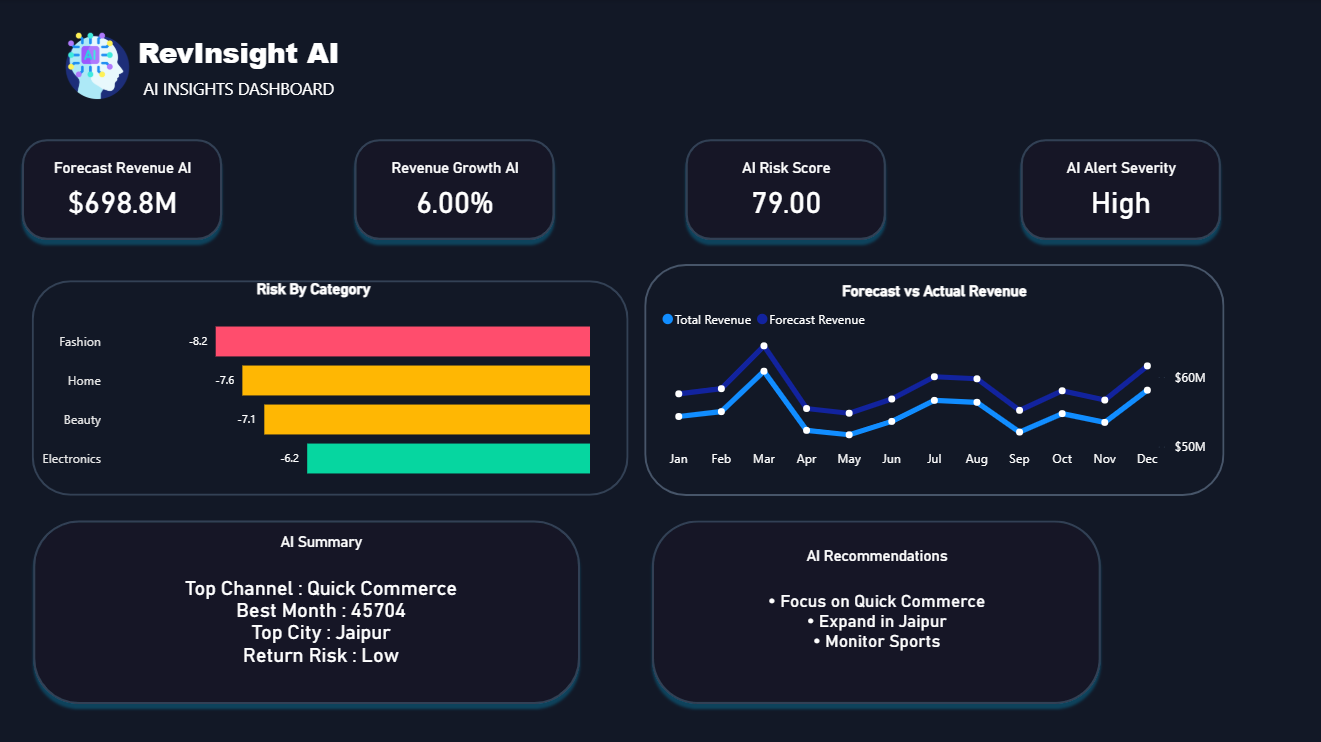

This screenshot's page, from the dashboard's own definition file:
{"tool":"powerbi","page":{"name":"AI Dashboard","canvas":[1280,720],"ordinal":2},"visuals":[{"type":"shape","title":"RevInsight AI","box":[48,32,368,64],"z":0},{"type":"shape","box":[16,128,208,112],"z":0,"group":"g2"},{"type":"shape","box":[336,128,208,112],"z":0,"group":"g4"},{"type":"shape","box":[656,128,208,112],"z":0,"group":"g5"},{"type":"shape","box":[979.9,128,208,112],"z":0,"group":"g6"},{"type":"shape","box":[27.1,496,542.6,192],"z":0,"group":"g3"},{"type":"group","id":"g1","title":"Group 1","box":[624,496,448,192],"z":0,"group":"g10"},{"type":"shape","box":[624,496,448,192],"z":0,"group":"g1"},{"type":"group","id":"g2","title":"Group 1","box":[16,128,208,112],"z":1000},{"type":"group","id":"g3","title":"Group 1","box":[27.1,496,542.6,192],"z":1000,"group":"g9"},{"type":"group","id":"g4","title":"Group 1","box":[336,128,208,112],"z":2000},{"type":"group","id":"g5","title":"Group 1","box":[656,128,208,112],"z":3000},{"type":"shape","title":"Revenue Trend","box":[624,256,560,224],"z":3000,"group":"g8"},{"type":"group","id":"g6","title":"Group 1","box":[979.9,128,208,112],"z":4000},{"type":"shape","box":[32,272,576,208],"z":4000,"group":"g7"},{"type":"group","id":"g7","title":"Group 11","box":[32,272,576,208],"z":5000},{"type":"group","id":"g8","title":"Group 8","box":[624,256,560,224],"z":6000},{"type":"group","id":"g9","title":"Group 2","box":[0,496,624,192],"z":7000},{"type":"group","id":"g10","title":"Group 3","box":[624,496,448,192],"z":8000},{"type":"image","box":[0,32,192,64],"z":9000},{"type":"group","id":"g11","title":"Group 1","box":[0,515.2,624,153.6],"z":9000,"group":"g9"},{"type":"clusteredBarChart","title":"Risk By Category","fields":{"Category":["Fact_Sales.Category"],"Y":["KPI_Table.Category Risk Score AI"]},"box":[32,272,544,208],"z":15000,"group":"g7"},{"type":"card","title":"Forecast Revenue AI","fields":{"Values":["KPI_Table.Forecast Revenue"]},"box":[48,154.4,144,64],"z":17000,"group":"g2"},{"type":"card","title":"Revenue Growth AI","fields":{"Values":["KPI_Table.Estimated Revenue Growth %"]},"box":[368,154.4,144,64],"z":17000,"group":"g4"},{"type":"card","title":"AI Risk Score","fields":{"Values":["KPI_Table.AI Risk Score V2"]},"box":[688,154.4,144,64],"z":17000,"group":"g5"},{"type":"card","title":"AI Alert Severity","fields":{"Values":["KPI_Table.Alert Severity AI"]},"box":[1011.9,154.4,144,64],"z":17000,"group":"g6"},{"type":"lineChart","title":"Forecast vs Actual Revenue","fields":{"Category":["Dim_Date.Month Name"],"Y":["KPI_Table.Total Revenue"],"Y2":["KPI_Table.Forecast Revenue"]},"box":[635.9,273.2,536.2,189.5],"z":17000,"group":"g8"},{"type":"card","title":"AI Summary ","fields":{"Values":["KPI_Table.AI Summary"]},"box":[0,515.2,624,153.6],"z":17000,"group":"g11"},{"type":"card","title":"AI Recommendations","fields":{"Values":["KPI_Table.Recommendation AI"]},"box":[656,528,384,128],"z":17000,"group":"g10"}]}

Visuals, with their boxes in screenshot pixels (x1, y1, x2, y2), scaled from the page's 1280x720 canvas onto the 1321x742 screenshot:
"RevInsight AI" shape: bbox(50, 33, 429, 99)
shape: bbox(17, 132, 231, 247)
shape: bbox(347, 132, 561, 247)
shape: bbox(677, 132, 892, 247)
shape: bbox(1011, 132, 1226, 247)
shape: bbox(28, 511, 588, 709)
"Group 1" group: bbox(644, 511, 1106, 709)
shape: bbox(644, 511, 1106, 709)
"Group 1" group: bbox(17, 132, 231, 247)
"Group 1" group: bbox(28, 511, 588, 709)
"Group 1" group: bbox(347, 132, 561, 247)
"Group 1" group: bbox(677, 132, 892, 247)
"Revenue Trend" shape: bbox(644, 264, 1222, 495)
"Group 1" group: bbox(1011, 132, 1226, 247)
shape: bbox(33, 280, 627, 495)
"Group 11" group: bbox(33, 280, 627, 495)
"Group 8" group: bbox(644, 264, 1222, 495)
"Group 2" group: bbox(0, 511, 644, 709)
"Group 3" group: bbox(644, 511, 1106, 709)
image: bbox(0, 33, 198, 99)
"Group 1" group: bbox(0, 531, 644, 689)
"Risk By Category" clusteredBarChart: bbox(33, 280, 594, 495)
"Forecast Revenue AI" card: bbox(50, 159, 198, 225)
"Revenue Growth AI" card: bbox(380, 159, 528, 225)
"AI Risk Score" card: bbox(710, 159, 859, 225)
"AI Alert Severity" card: bbox(1044, 159, 1193, 225)
"Forecast vs Actual Revenue" lineChart: bbox(656, 282, 1210, 477)
"AI Summary " card: bbox(0, 531, 644, 689)
"AI Recommendations" card: bbox(677, 544, 1073, 676)
